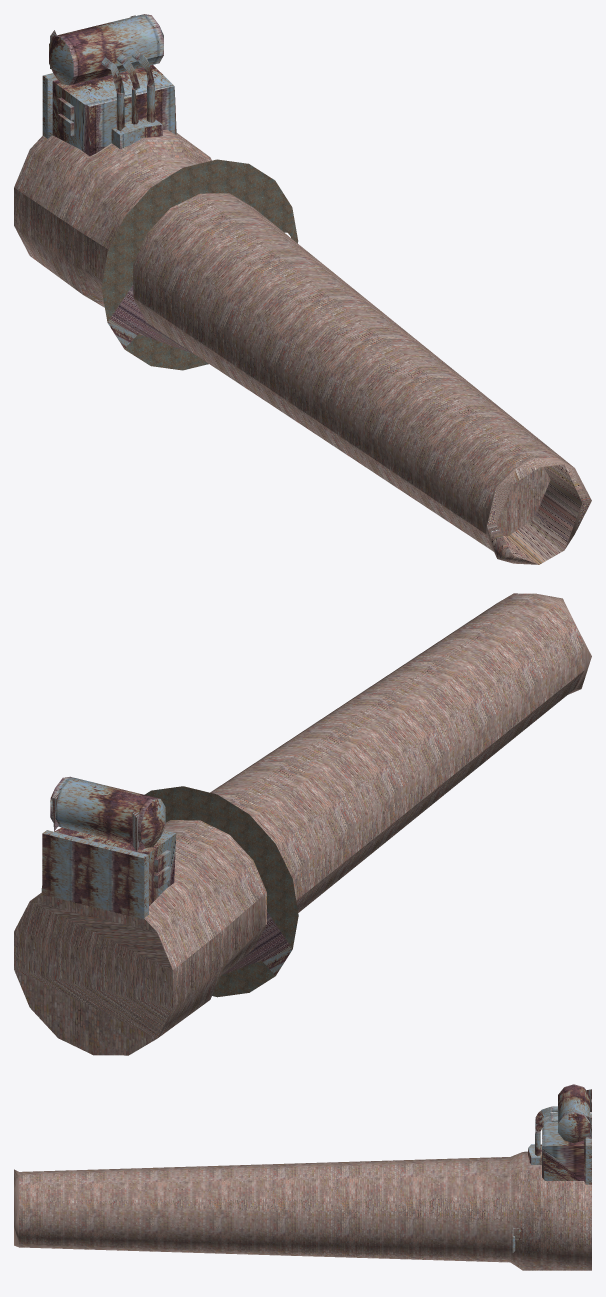
File: heizturm_2_LOD2.obj
3 renders of one model, top to bottom at view 1: azimuth 30°, elevation 25°; view 2: azimuth 150°, elevation 25°; view 3: azimuth 270°, elevation 25°, orthographic. The views are drawn at different scales.
Parts seen in each view (by area): view 1: MDL_Objec1; view 2: MDL_Objec1; view 3: MDL_Objec1.
Part boxes in pixels (x1,y1,x2,y2): MDL_Objec1: [14, 14, 591, 564]; MDL_Objec1: [14, 593, 591, 1055]; MDL_Objec1: [14, 1084, 591, 1270].
Size of the model in its own units: 14.01 by 17.31 by 51.4.
Materials: 3 (3 with a texture image).
